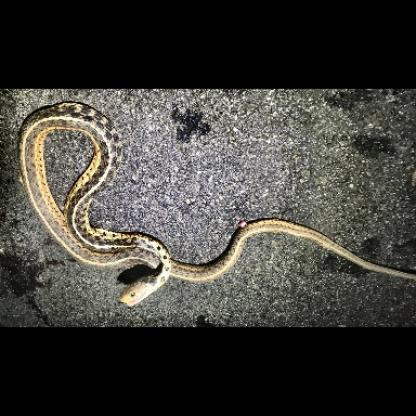Snake: (11, 101, 406, 307)
